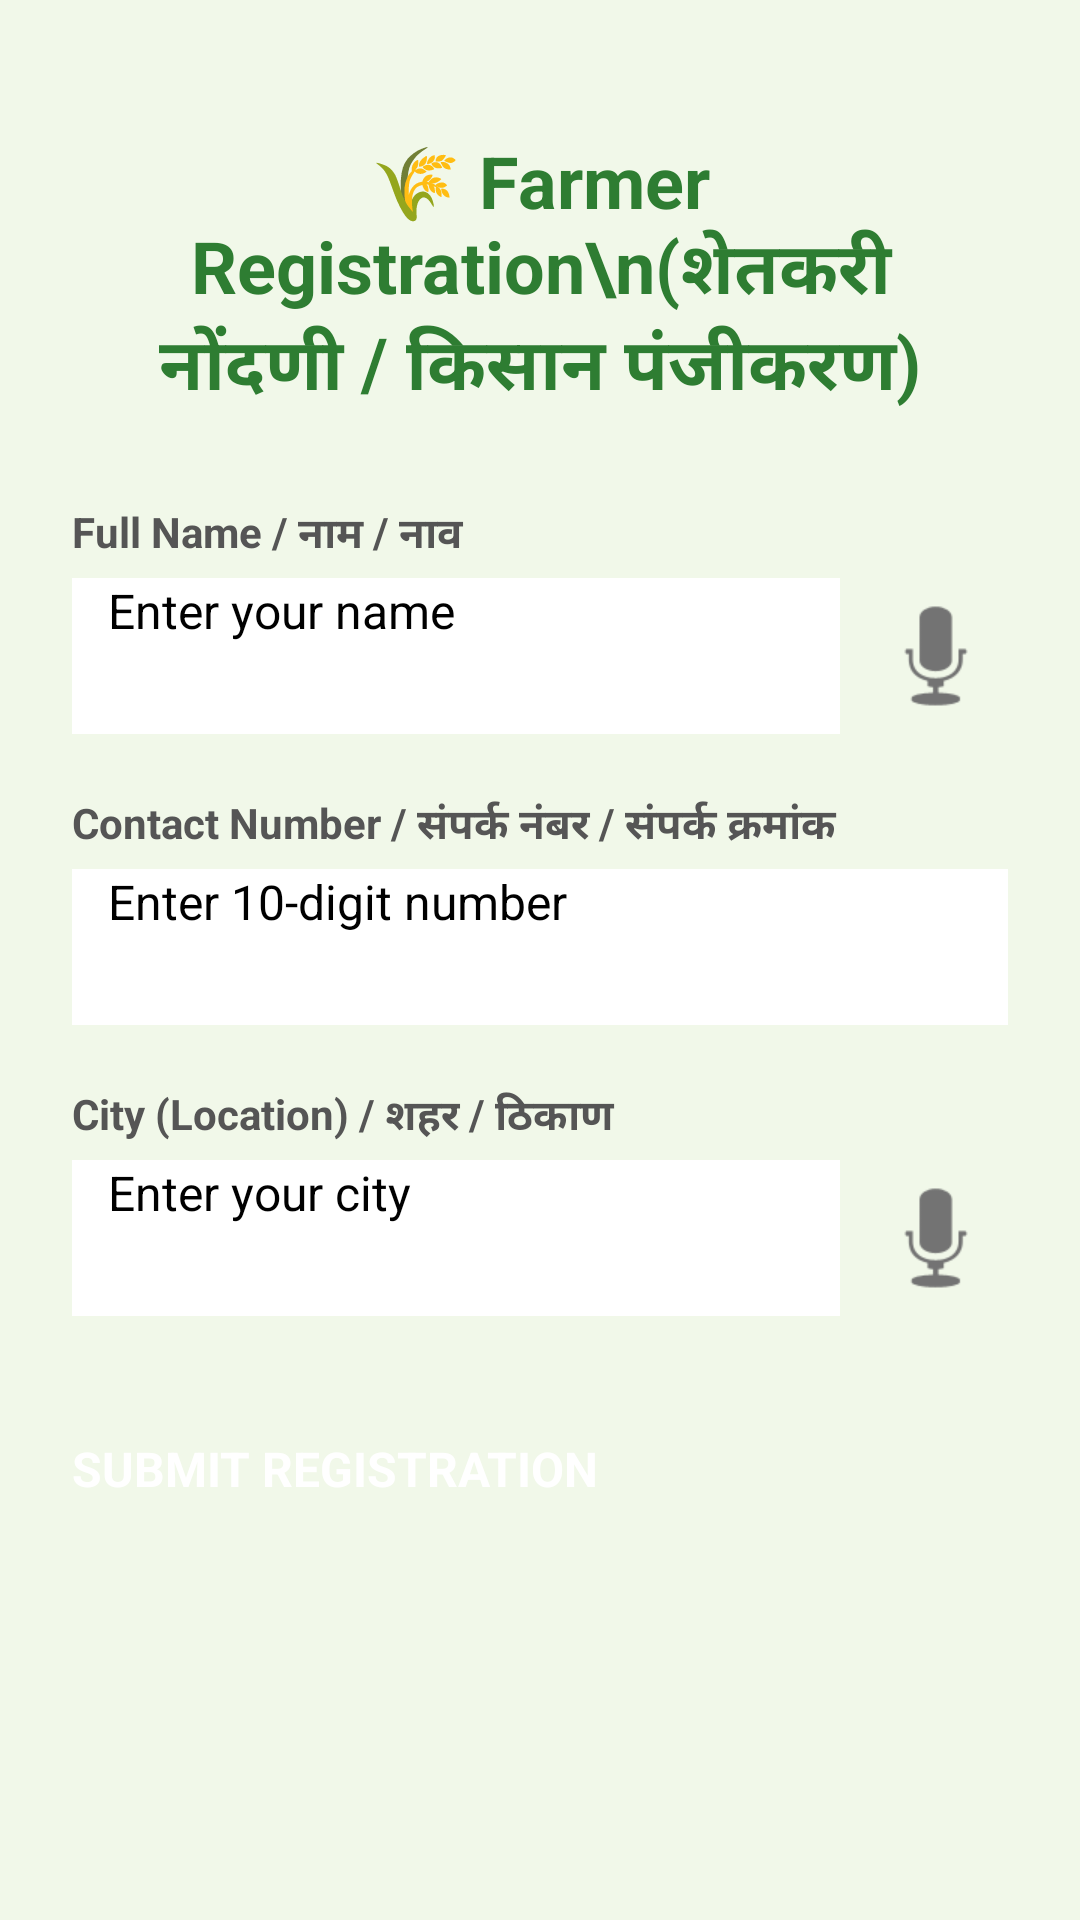

Where to tap for icons on this 1080px x 1920px app screen, as [x,y]:
Voice input for city: [936,1238]
Voice input for name: [936,656]
